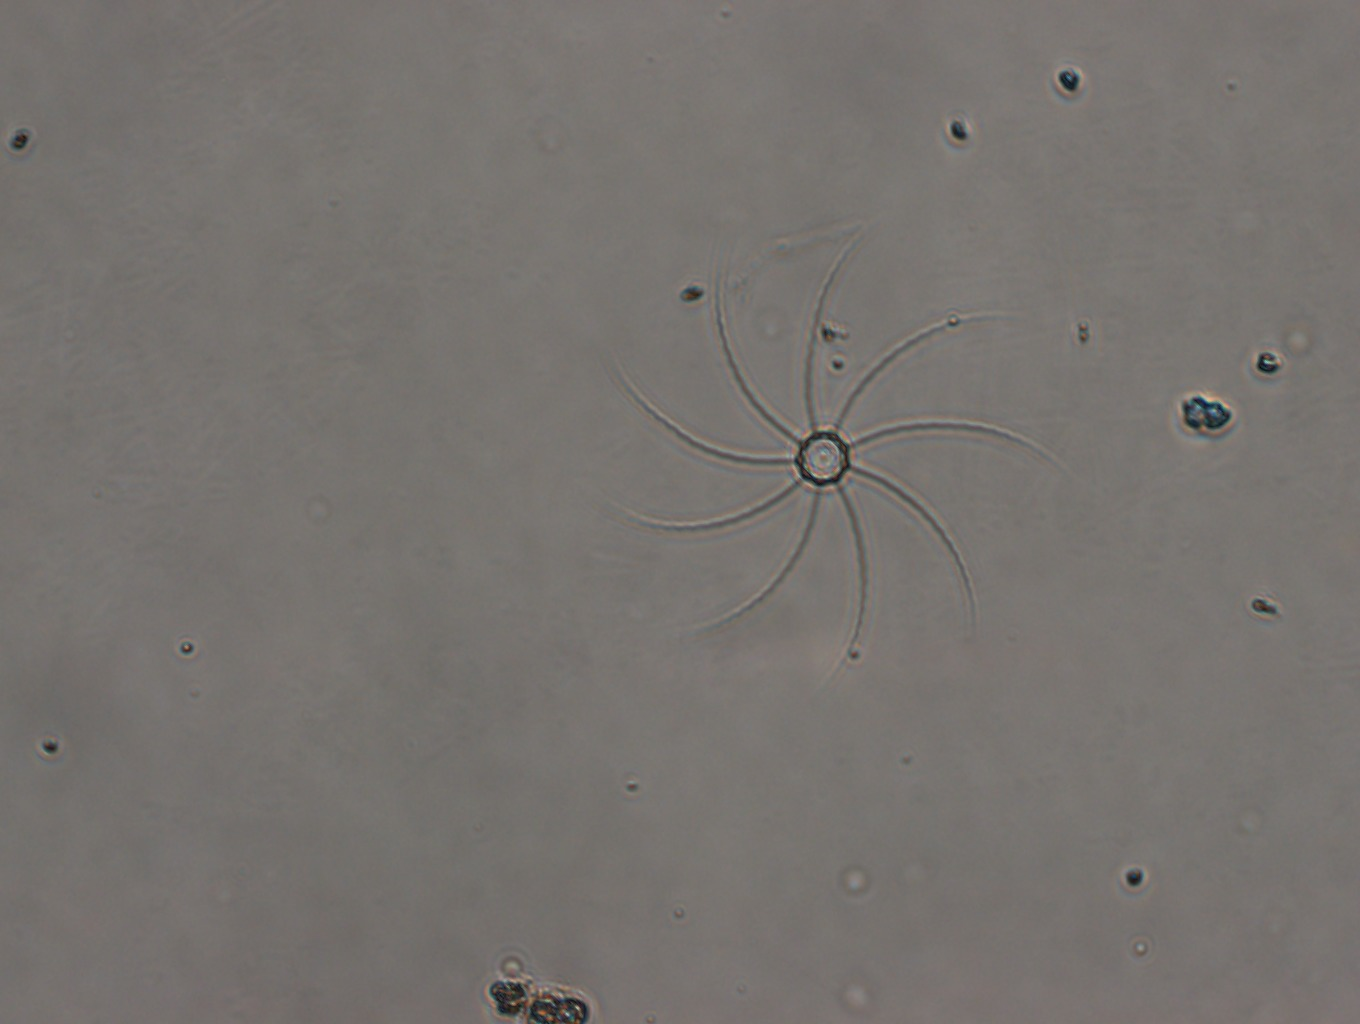bacteriastrum: (579, 231, 1065, 698)
